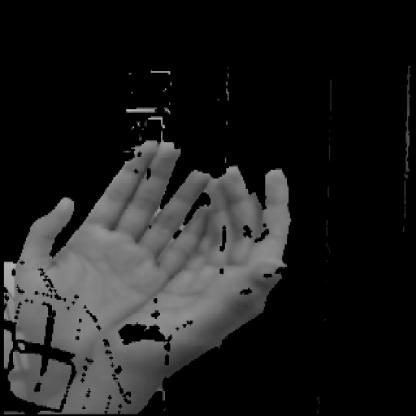dua: (25, 125, 295, 397)
